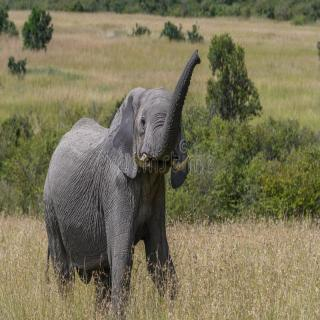Elephant: (42, 46, 201, 316)
